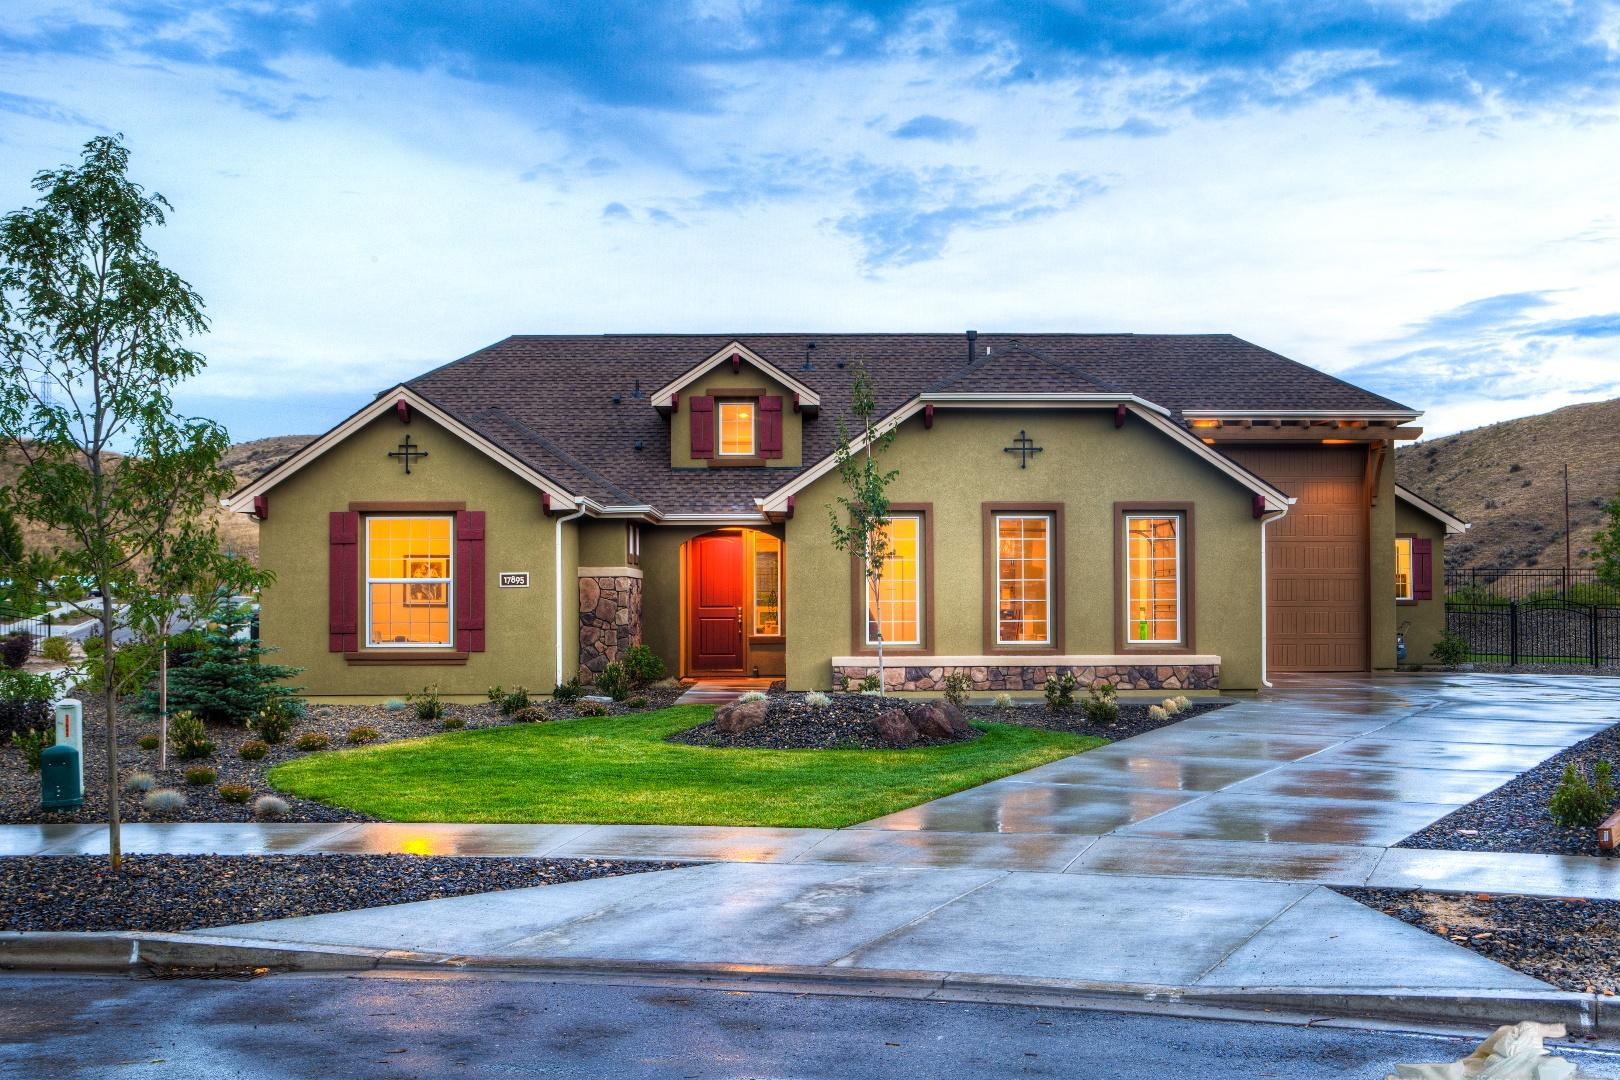trash: (1381, 1014, 1620, 1080)
